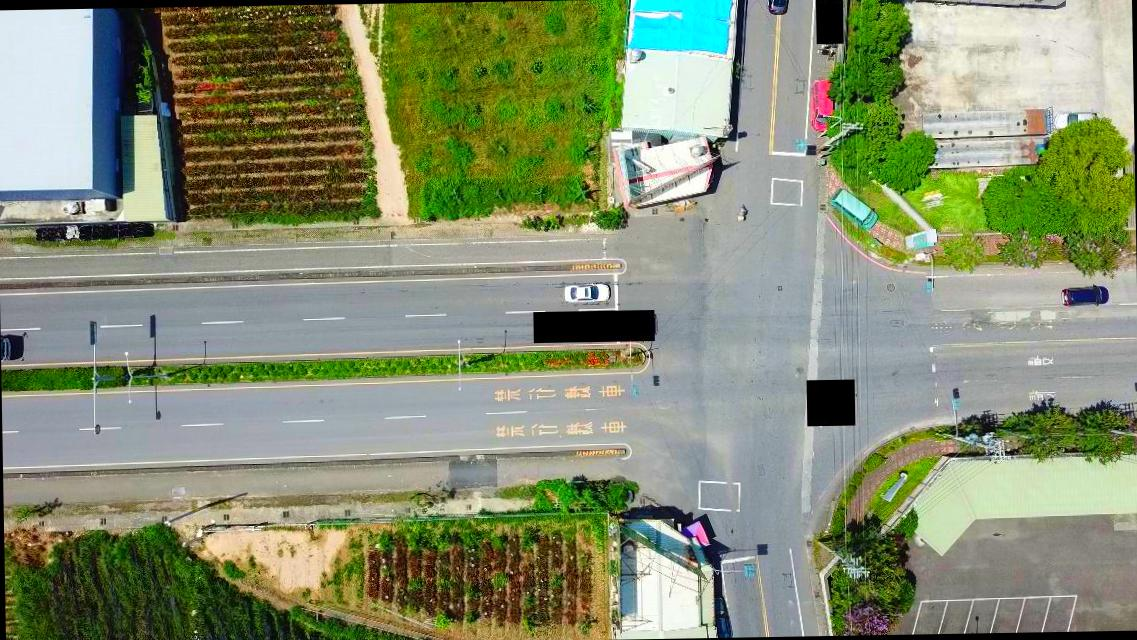vehicle: (828, 186, 881, 230), (811, 77, 836, 132), (562, 279, 610, 304), (1058, 284, 1108, 308), (1052, 110, 1096, 134), (716, 594, 736, 636), (767, 0, 793, 17)
